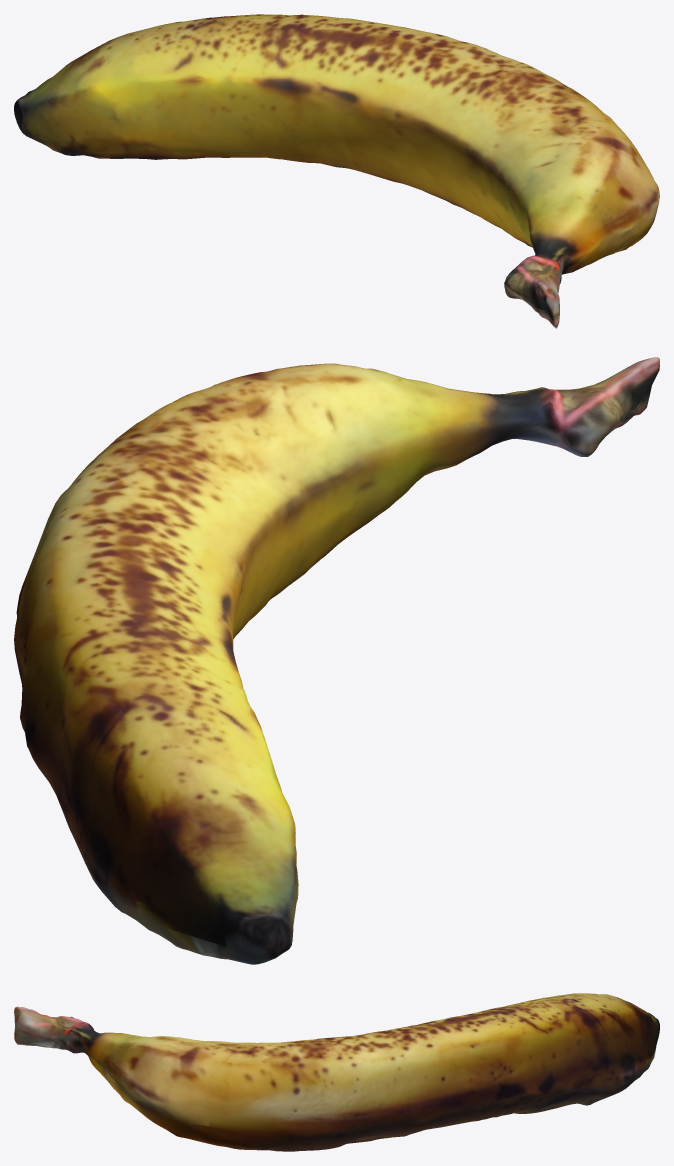
The model's file is sculpt.obj.
The picture shows the model from 3 angles, top to bottom: view 1: azimuth 30°, elevation 25°; view 2: azimuth 150°, elevation 25°; view 3: azimuth 270°, elevation 25°; orthographic projection. The views are drawn at different scales.
Size of the model in its own units: 1.97 by 0.793 by 3.84.
1 material, 1 textured.
